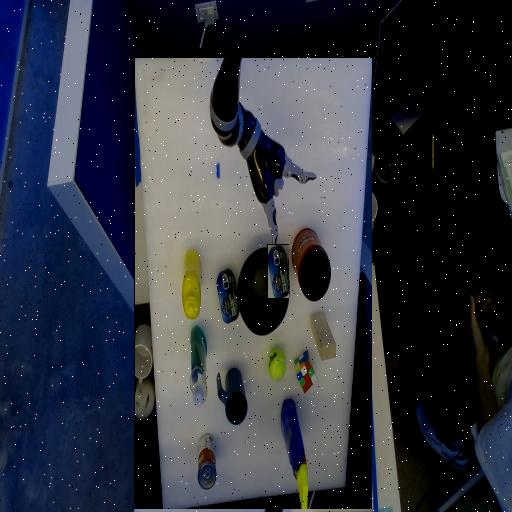bowl: (218, 232, 268, 318)
cleanser: (300, 162, 316, 241)
coffee_can: (176, 267, 214, 338)
jaco: (191, 316, 260, 437)
meat_can: (268, 245, 289, 298)
mug: (259, 143, 289, 199)
mustard_bottle: (306, 249, 324, 317)
rubik: (190, 174, 212, 217)
soup_can: (290, 97, 308, 115)
tennis_ball: (221, 195, 238, 212)
windex: (197, 96, 225, 118)
wooden_block: (170, 219, 195, 244)
workspace: (134, 58, 372, 509)
